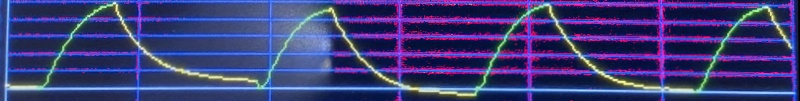normal_volume: (0, 0, 787, 99)
